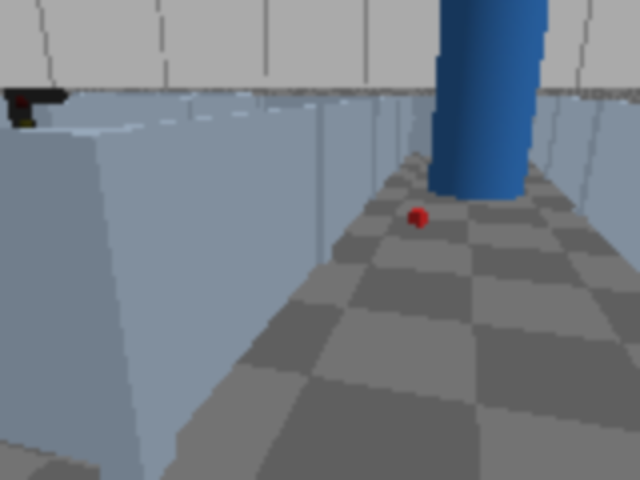puck: (409, 209, 429, 227)
